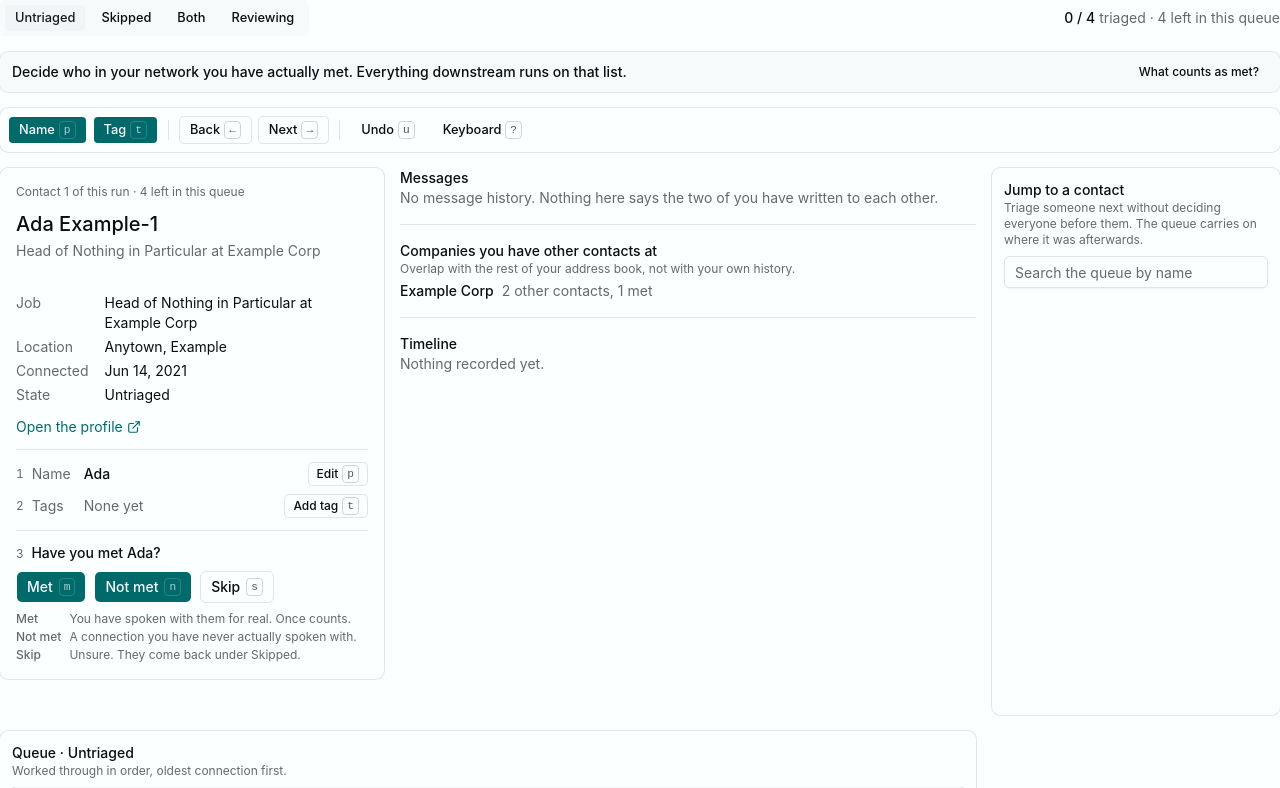
Test: undo › forces an archived contact back without pretending it is in the queue
Press m
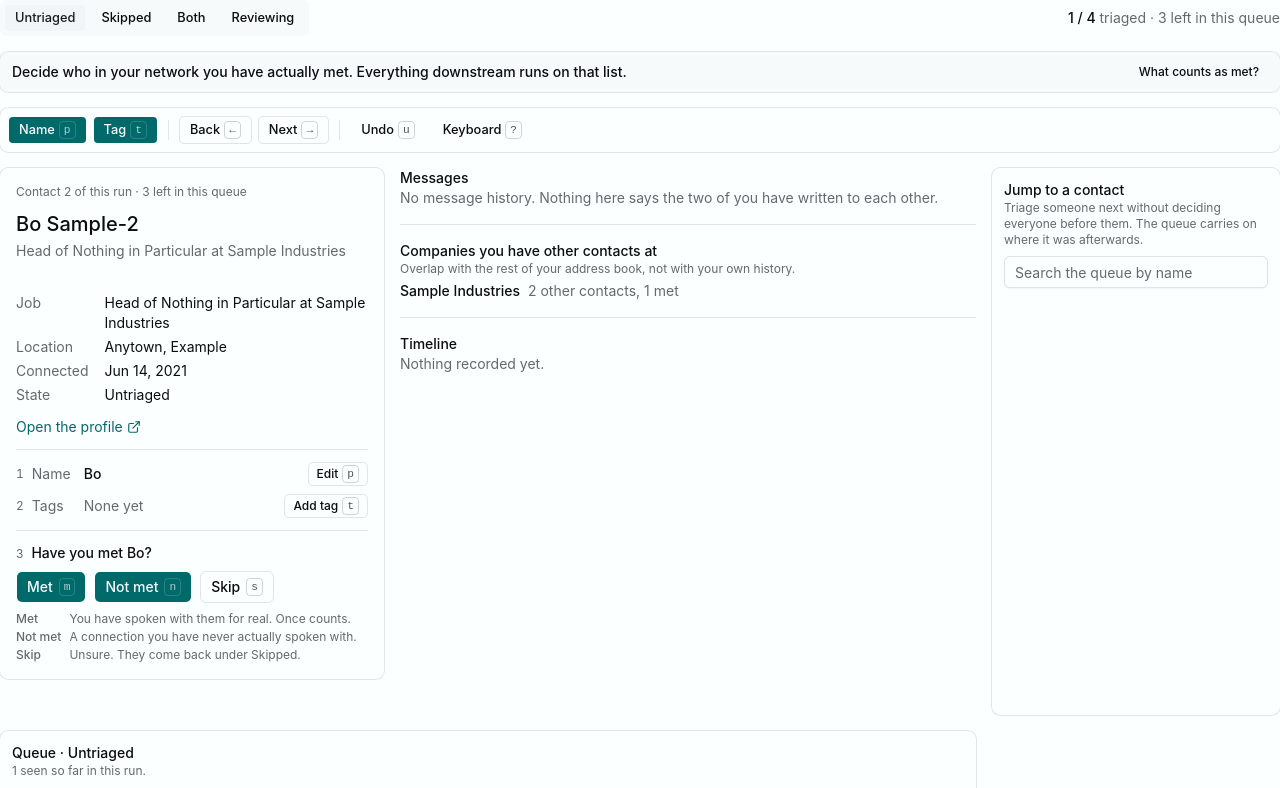
Press u
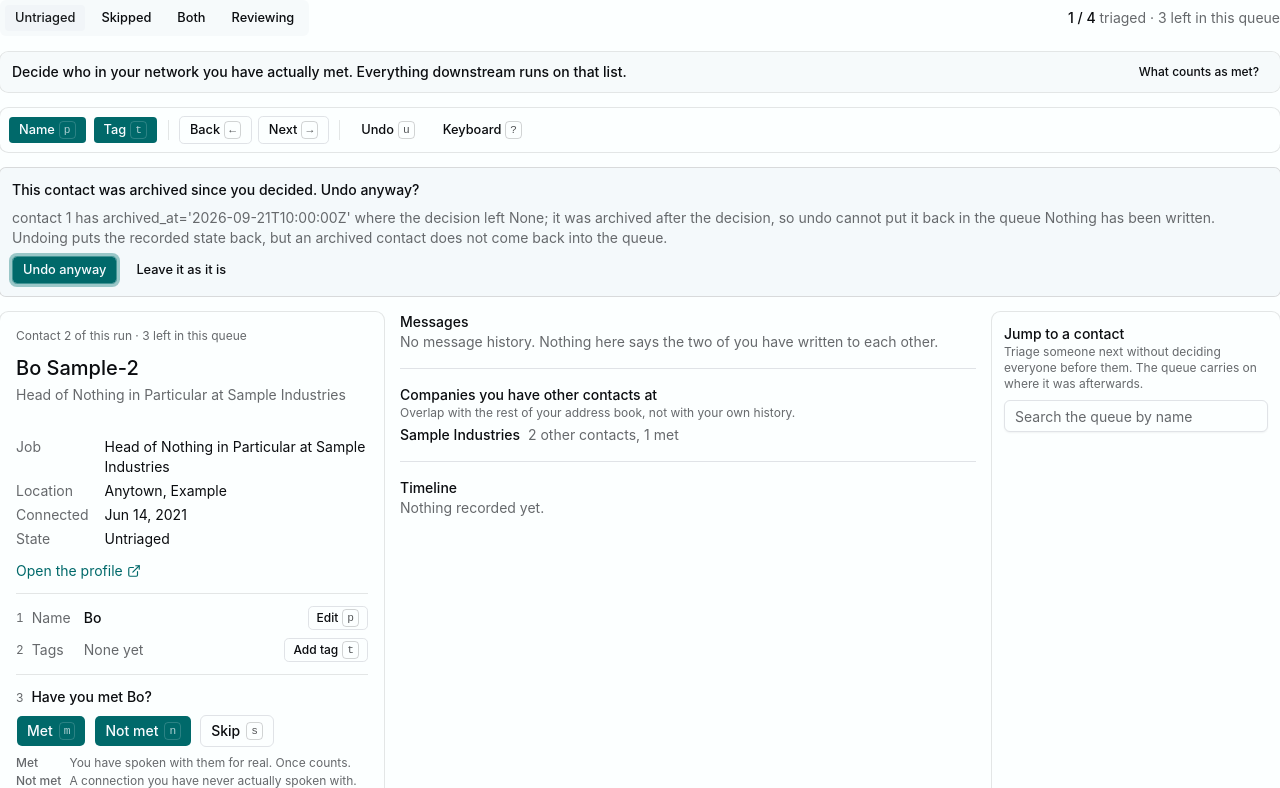
Click the button with test id "undo-force" at point(65, 270), box [12, 256, 117, 284]
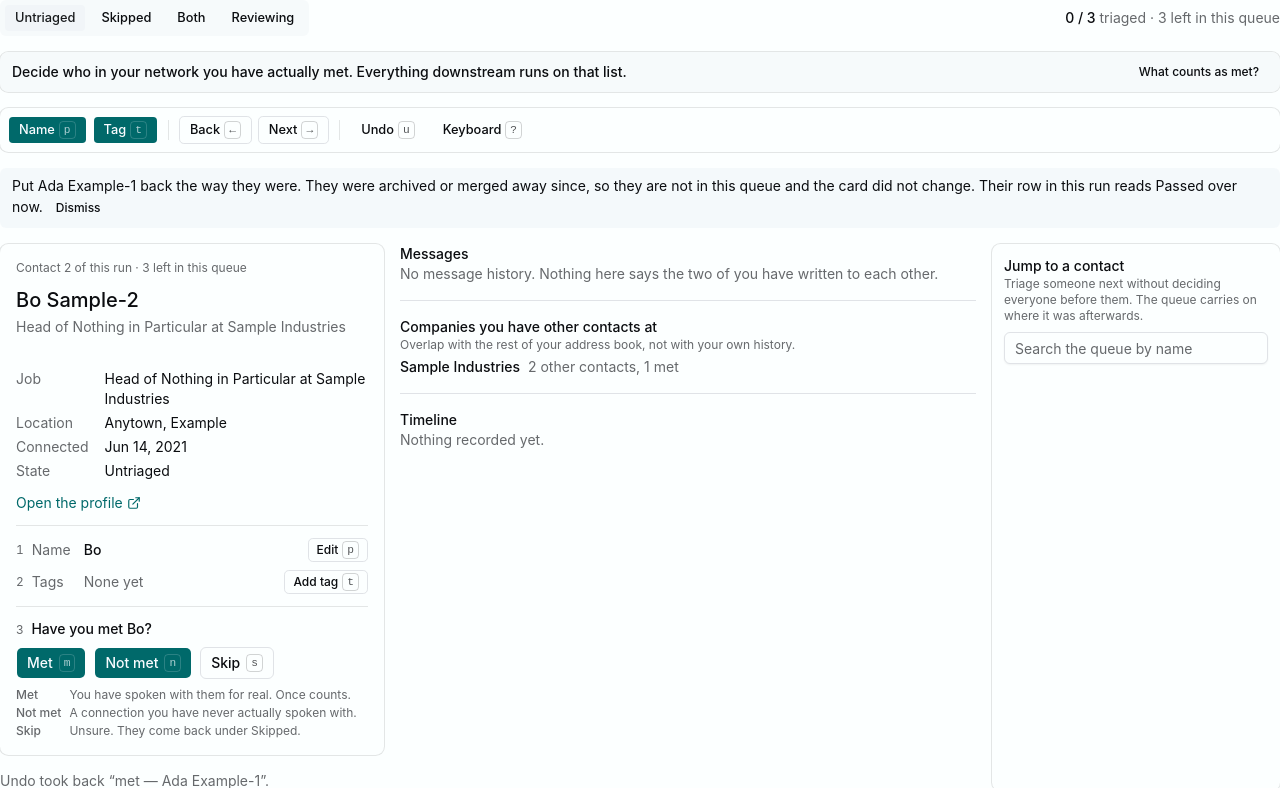
Expected: the text "archived or merged away since" is shown, [12, 177, 1237, 215]
